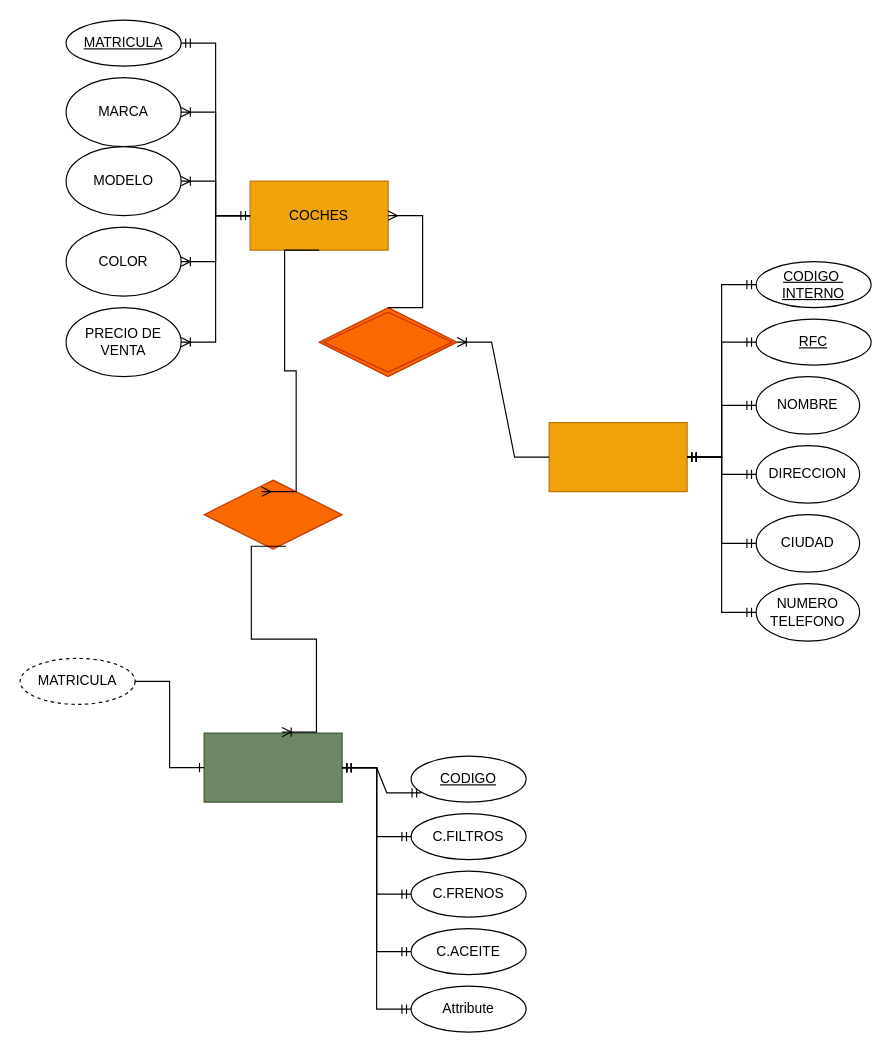
Image size: 891x1052. Some labels were removed from this diagram. Each missing label, with the centre of its shape:
CLIENTES: the point at 617,456
COMPRA: the point at 387,341
REVISION: the point at 272,767
SERVICIOS: the point at 272,514
